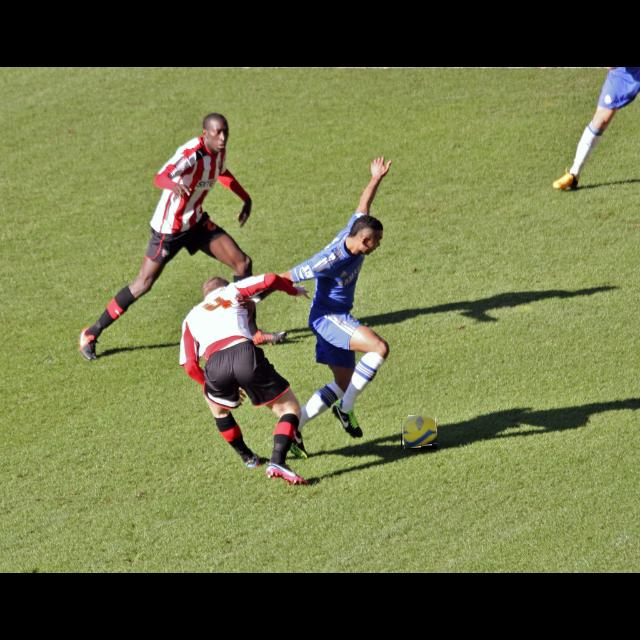Football: (401, 415, 437, 449)
